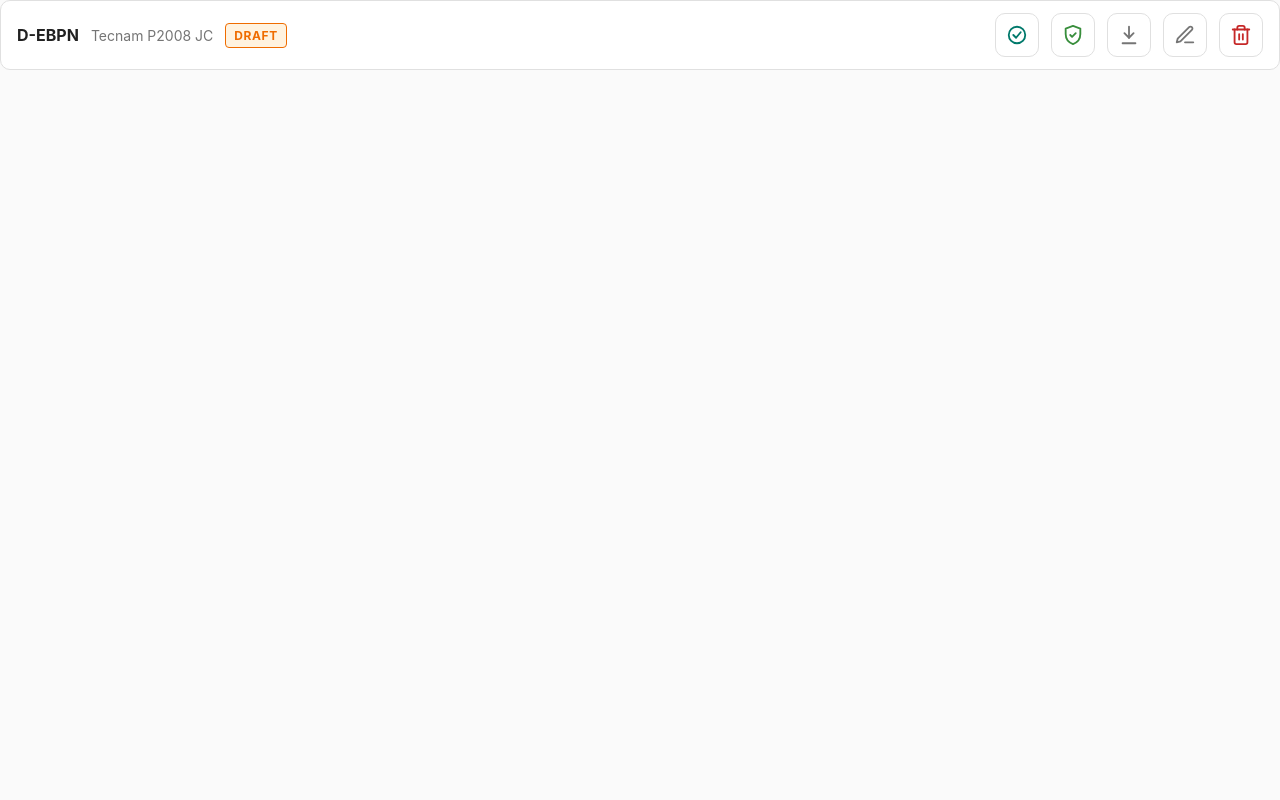
Test: FleetList — delete confirmation + undo › opens an in-app confirmation dialog naming the aircraft on delete tap
Click the button with class "btn-danger" at (1241, 35), box 1219,13 -> 1263,57
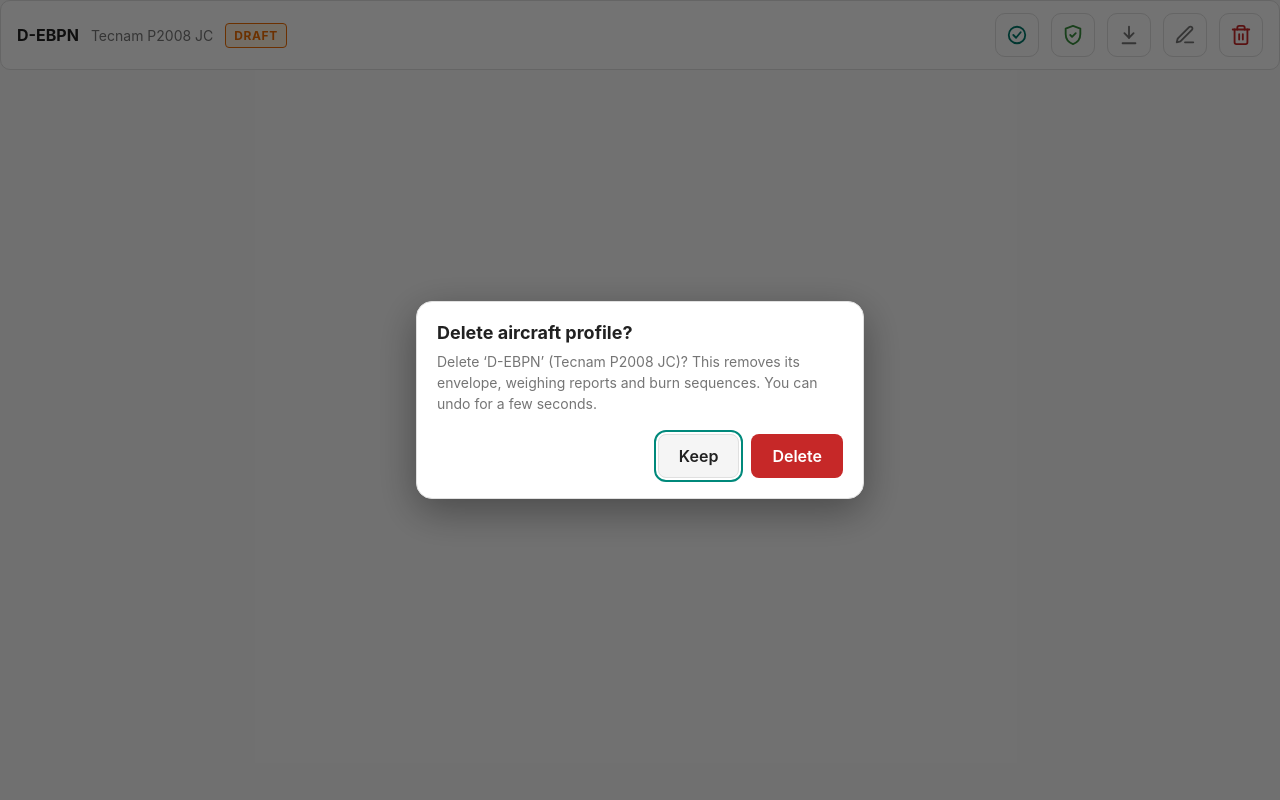
Expected: the dialog with class "confirm-dialog" is shown, 416,301 -> 864,499
Expected: the dialog with class "confirm-dialog" shows "D-EBPN", 437,353 -> 818,412
